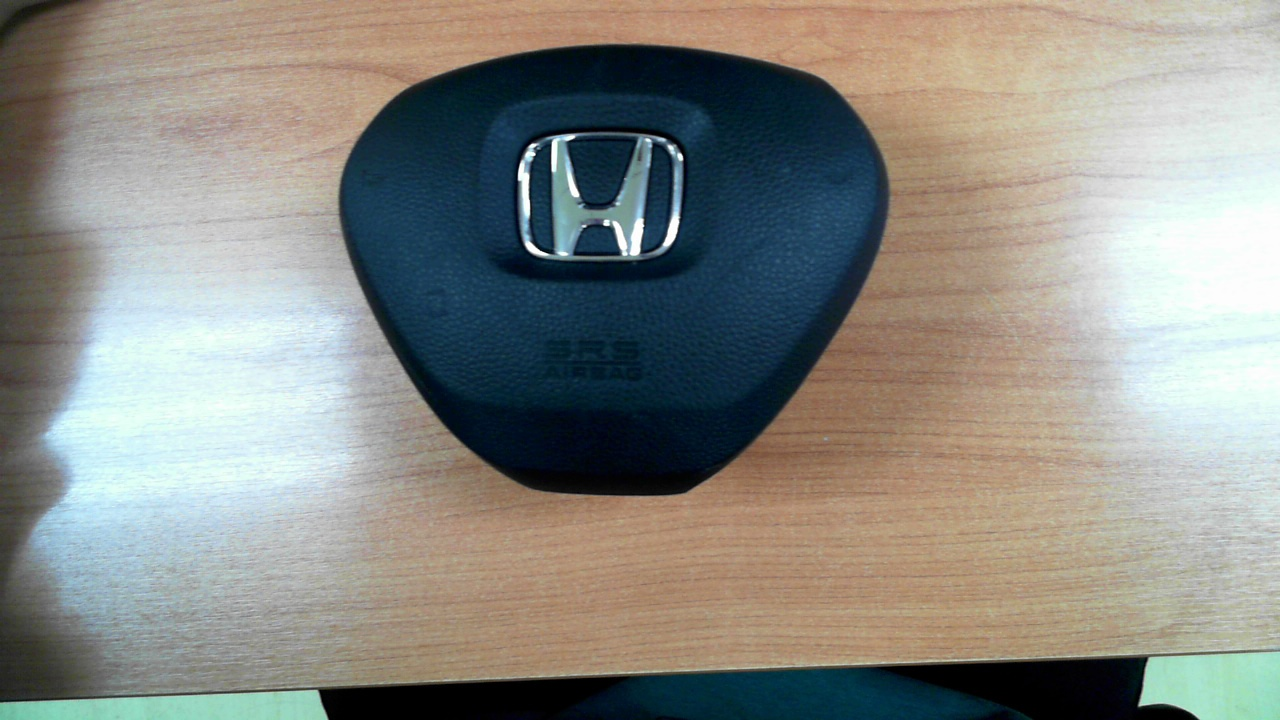Airbag: (337, 43, 890, 496)
Honda: (517, 131, 684, 261)
